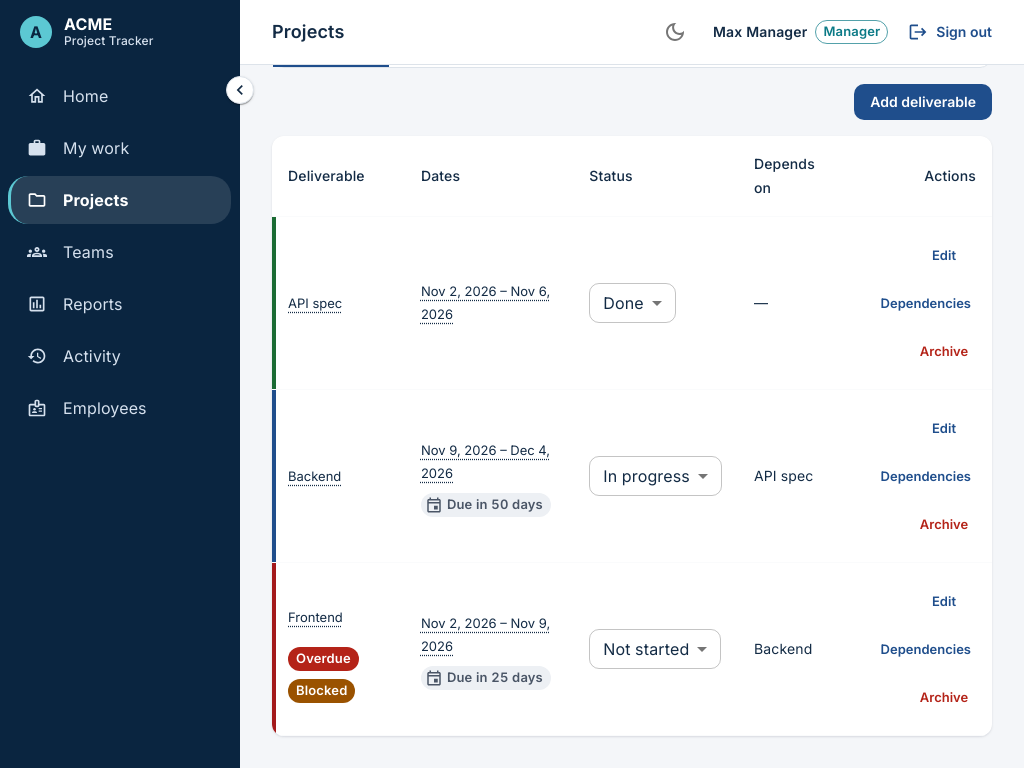
it: Deliverable edit › the manager changes name and due date; only the changes are sent and the list refreshes
(page scrolled)
Click the button with aria-label "Edit Frontend". click: (944, 601)
box: [912,579,976,623]
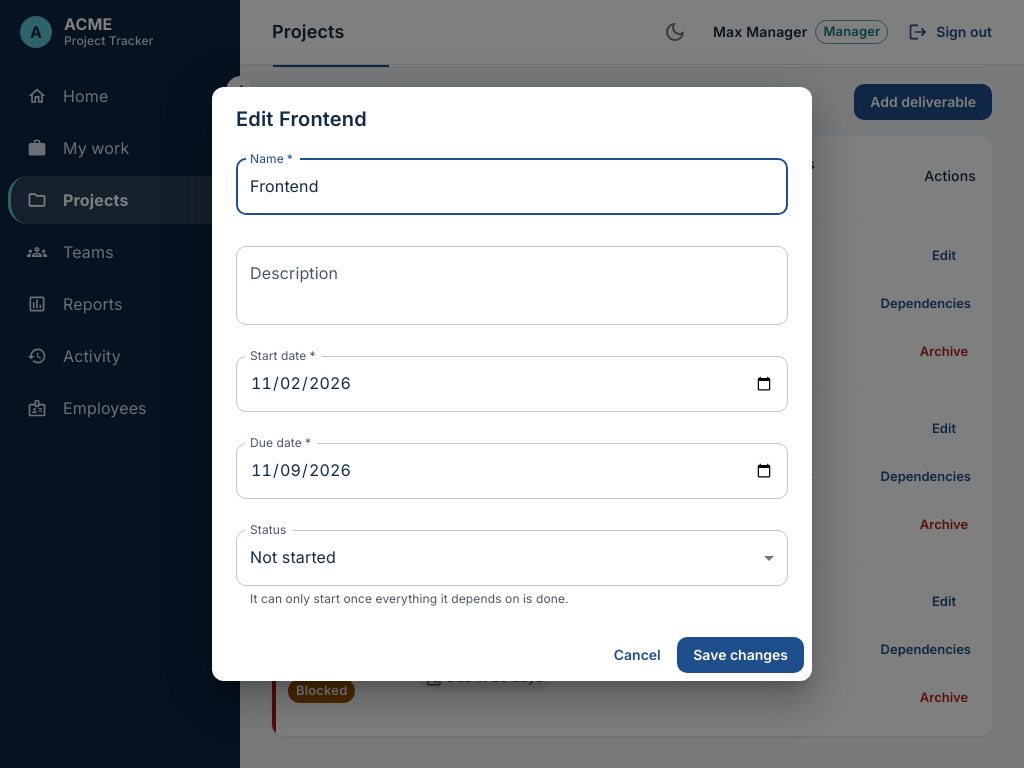
Replace the text in the field labelled "Name *" with "Web app". click: (512, 187)
box: [236,159,788,215]
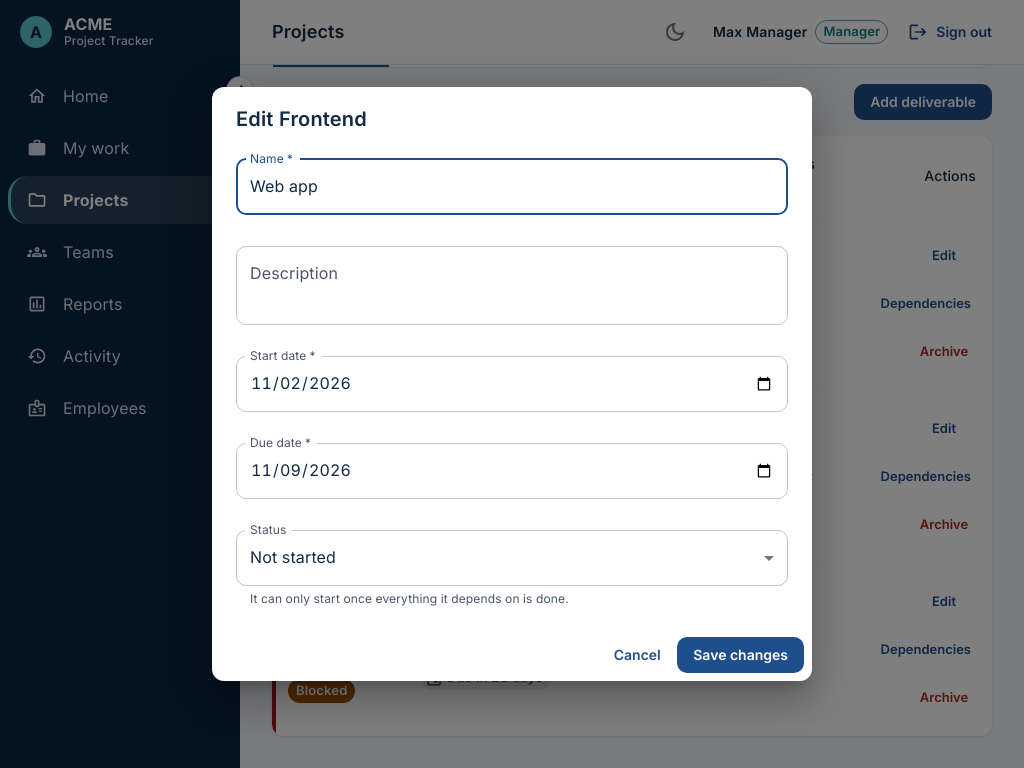
Type "2026-11-20" into the date field labelled "Due date *". click: (512, 471)
box: [236,443,788,499]
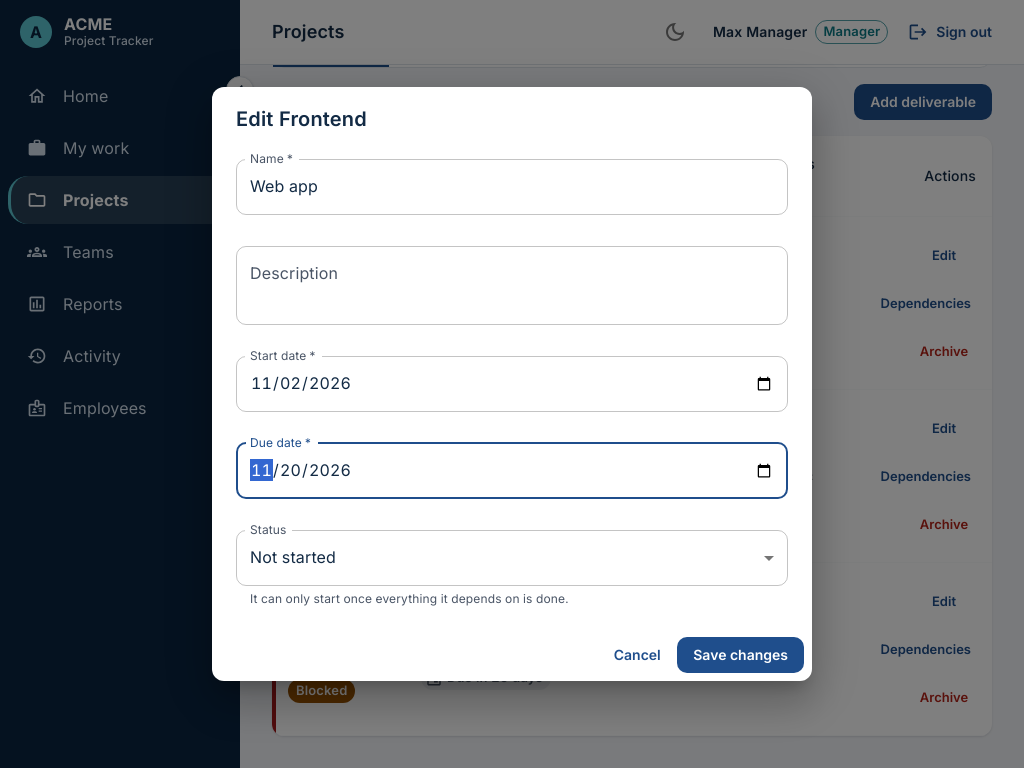
Click the button "Save changes". click: (741, 655)
box: [677,636,804,673]
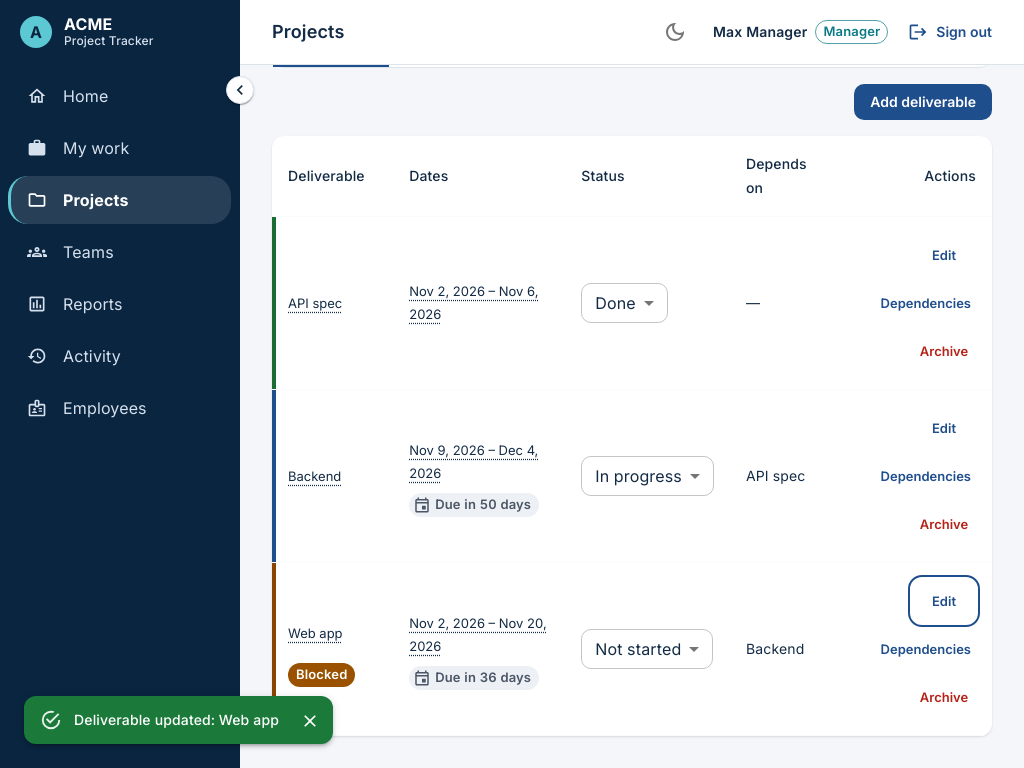
expect the text "Deliverable updated: Web app" is shown: met, box [74,711,279,728]
expect the button "Nov 2, 2026 – Nov 20, 2026" is shown: met, box [401,608,557,662]
